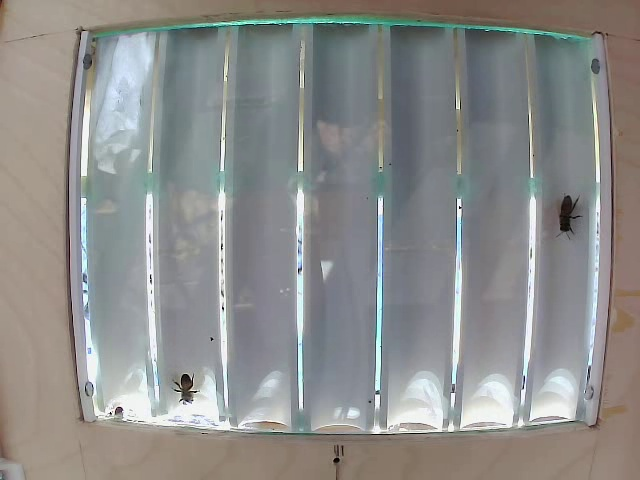bee: (167, 363, 216, 407), (549, 193, 579, 239)
